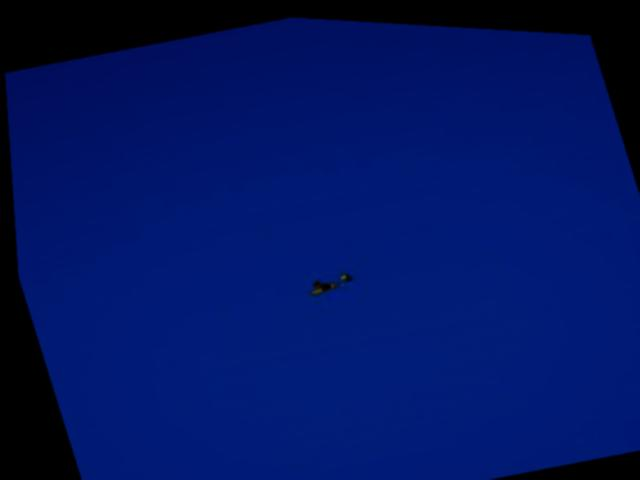iha: (298, 262, 357, 300)
